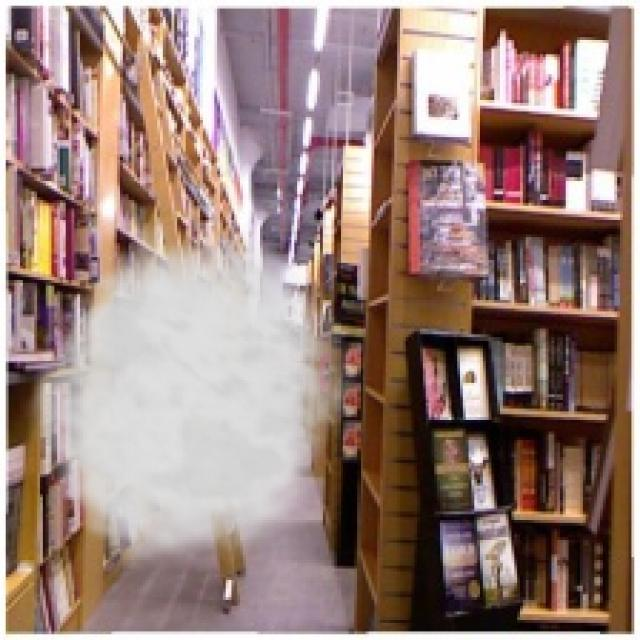smoke: (20, 223, 363, 577)
